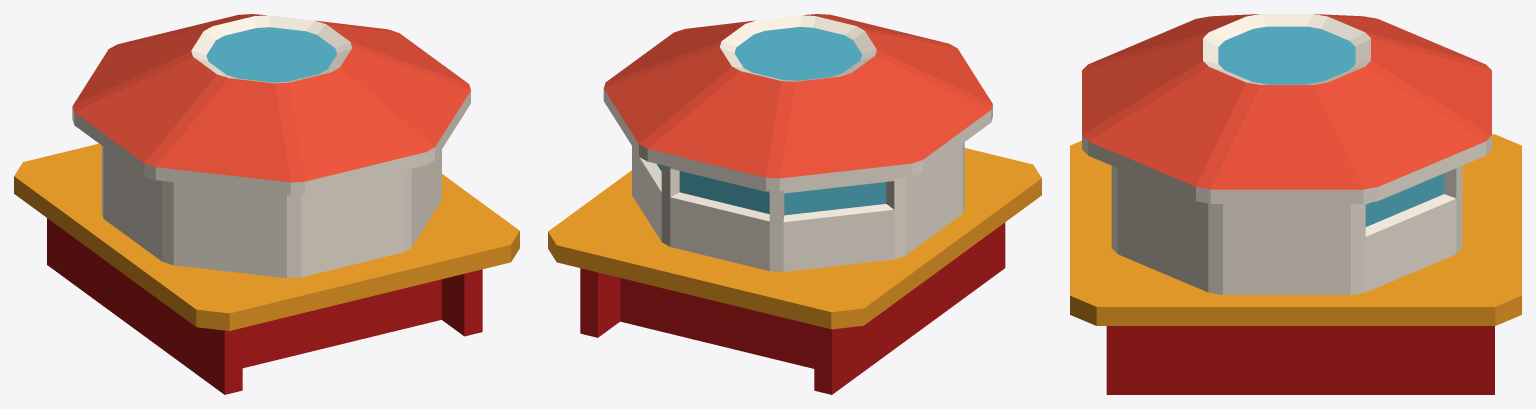
File: ShippingOffice.fbx
3 views of the same model, side by side, from view 1: azimuth 30°, elevation 25°; view 2: azimuth 150°, elevation 25°; view 3: azimuth 270°, elevation 25° (orthographic). The views are drawn at different scales.
Parts seen in each view (by area): view 1: ShippingOffice; view 2: ShippingOffice; view 3: ShippingOffice.
Boxes of the visible parts, <box> form: ShippingOffice: <box>14,14,519,394</box>; ShippingOffice: <box>548,14,1041,394</box>; ShippingOffice: <box>1070,14,1521,394</box>.
Bounding box in the file's own units: 155 × 116 × 171.
